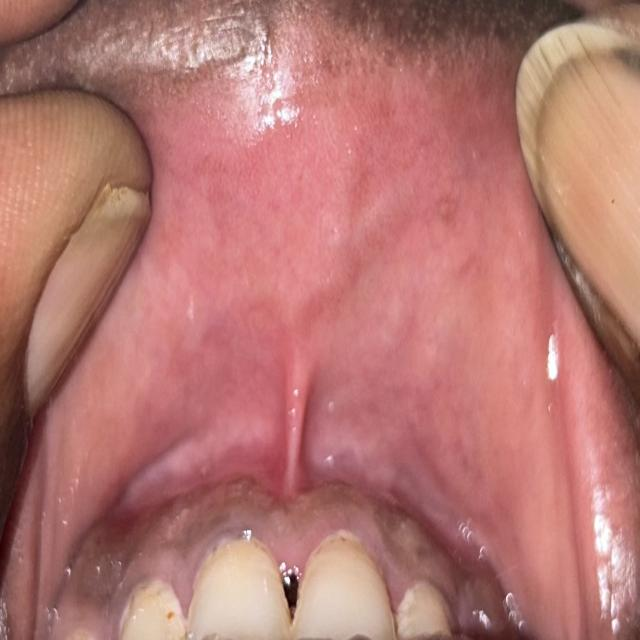processing_area: (5, 29, 601, 637)
